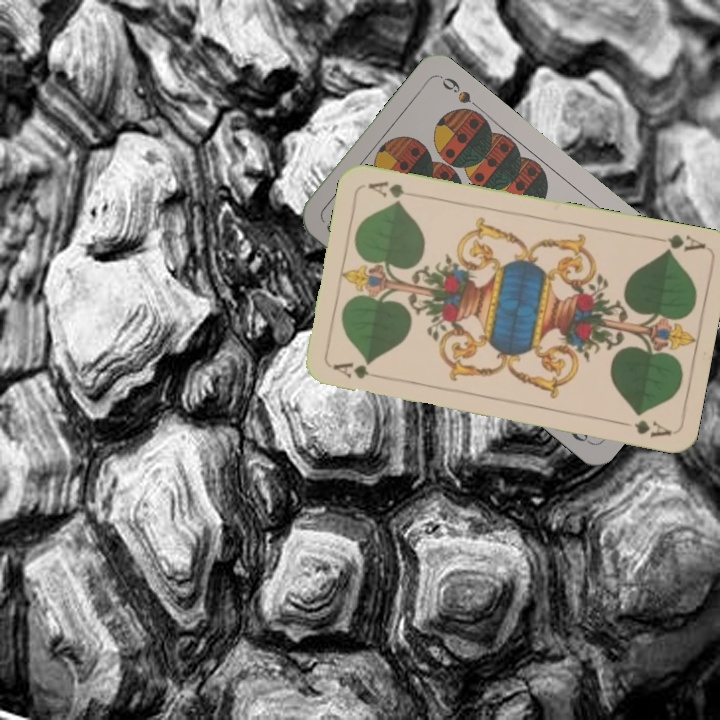GA: (329, 358, 387, 381), (660, 230, 707, 256)
